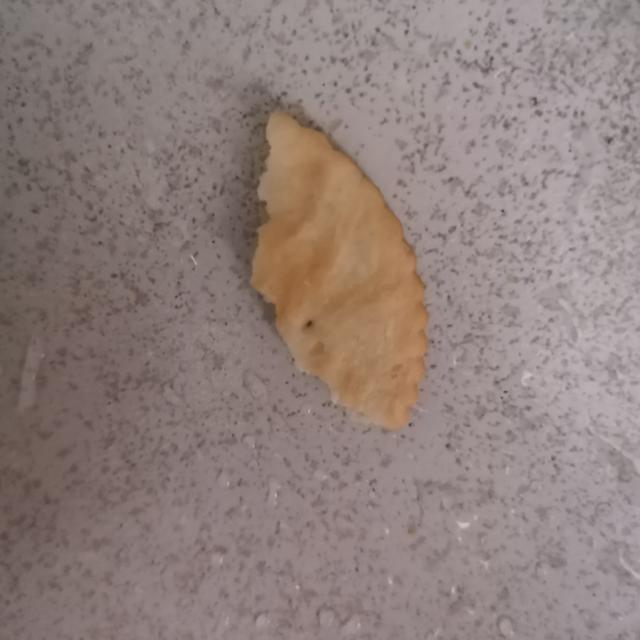Broken: (248, 109, 429, 431)
